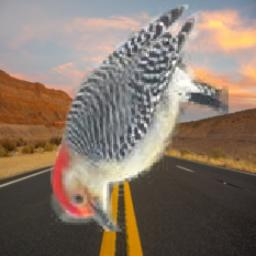Woodpecker: (51, 6, 229, 233)
